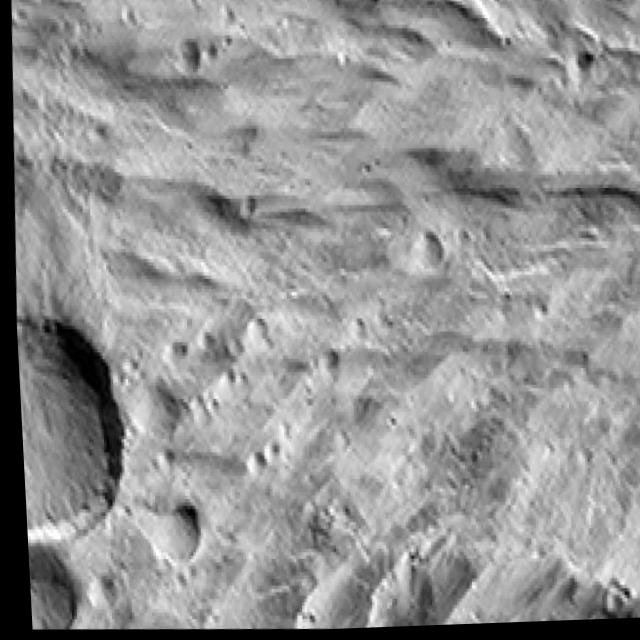Crater: (11, 261, 153, 579), (21, 503, 84, 631)
